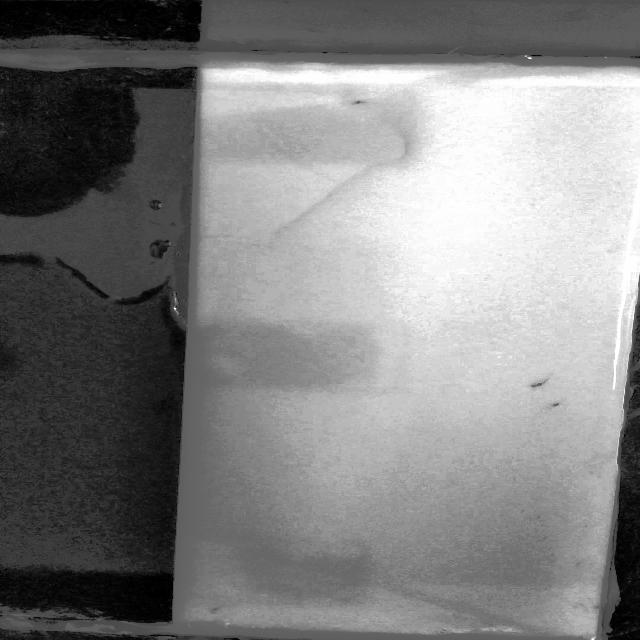shrimp: (528, 374, 554, 391), (340, 96, 382, 105), (542, 399, 569, 411), (201, 605, 229, 615)
